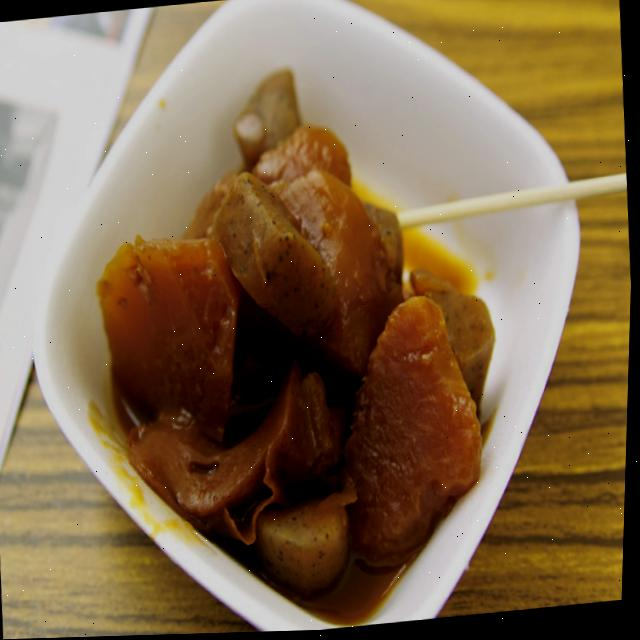汤锅炖物: (71, 46, 522, 613)
